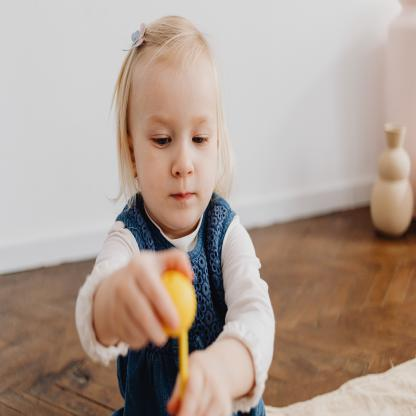Eye: (147, 130, 173, 148), (190, 130, 212, 146)
Mouth: (165, 189, 197, 205)
Nose: (172, 140, 194, 178)
